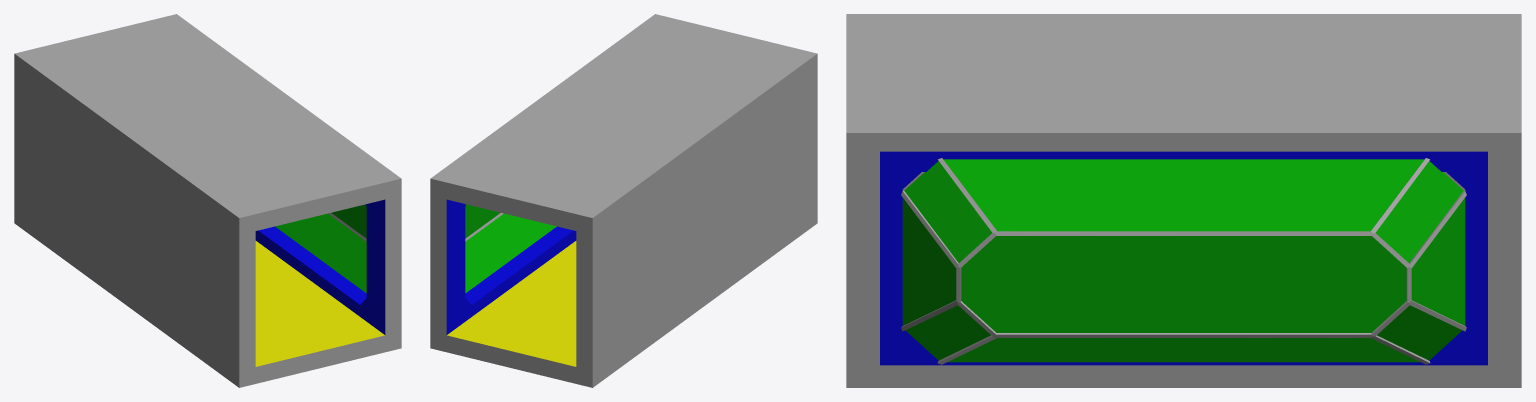
File: Hallway Window.fbx
The picture shows the model from 3 angles, left to right: view 1: azimuth 30°, elevation 25°; view 2: azimuth 150°, elevation 25°; view 3: azimuth 270°, elevation 25°; orthographic projection. The views are drawn at different scales.
Visible parts, largest first — view 1: hallway_Window; view 2: hallway_Window; view 3: hallway_Window.
Boxes of the visible parts, x1,y1,x2,y2 form: hallway_Window: (14,14,401,387); hallway_Window: (430,14,817,387); hallway_Window: (846,14,1521,387).
Bounding box in the file's own units: 0.0605 × 0.05 × 0.12.
